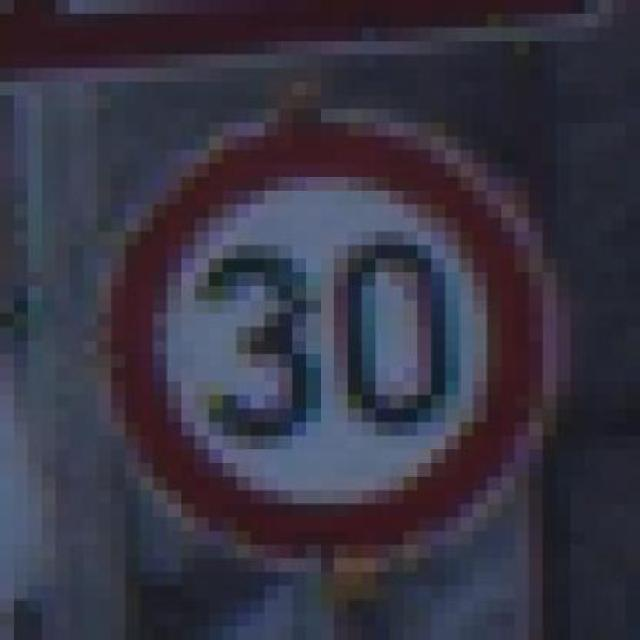Speed Limit 30 KMPh: (56, 123, 584, 559)
